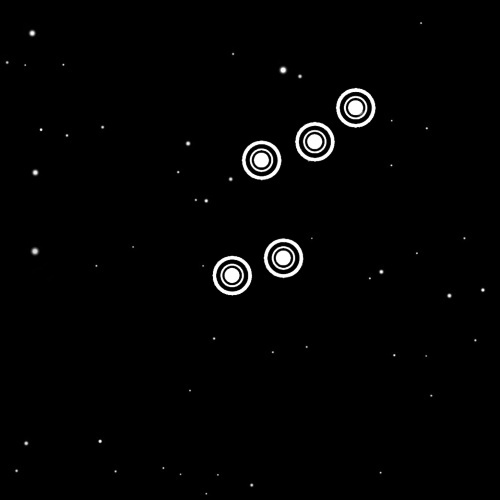lyra: (203, 66, 386, 308)
